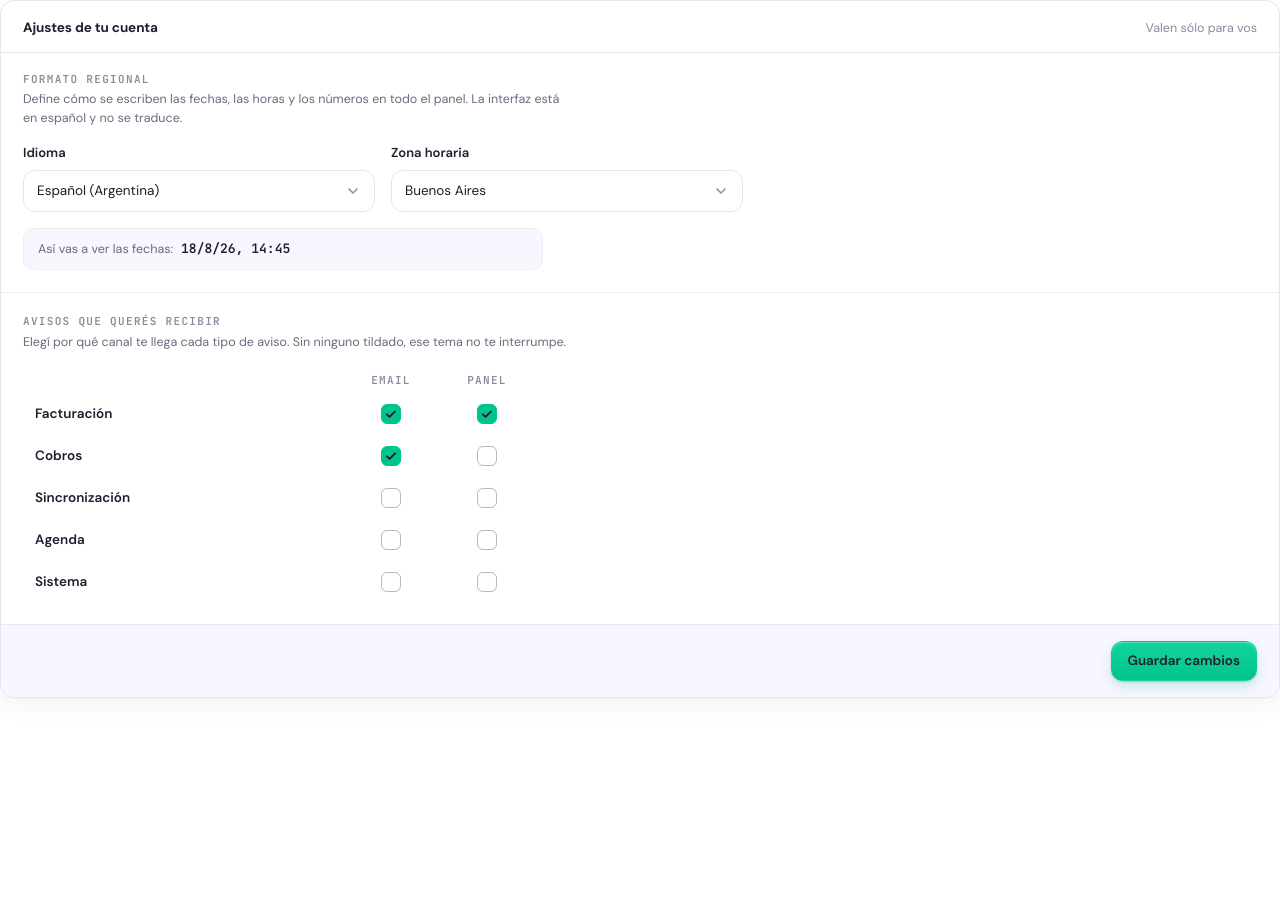
Scenario: FormularioDePreferencias › guarda los cambios y lo confirma
Select "Ushuaia" in the dropdown labelled "Zona horaria" at [567, 191], box [391, 170, 743, 212]
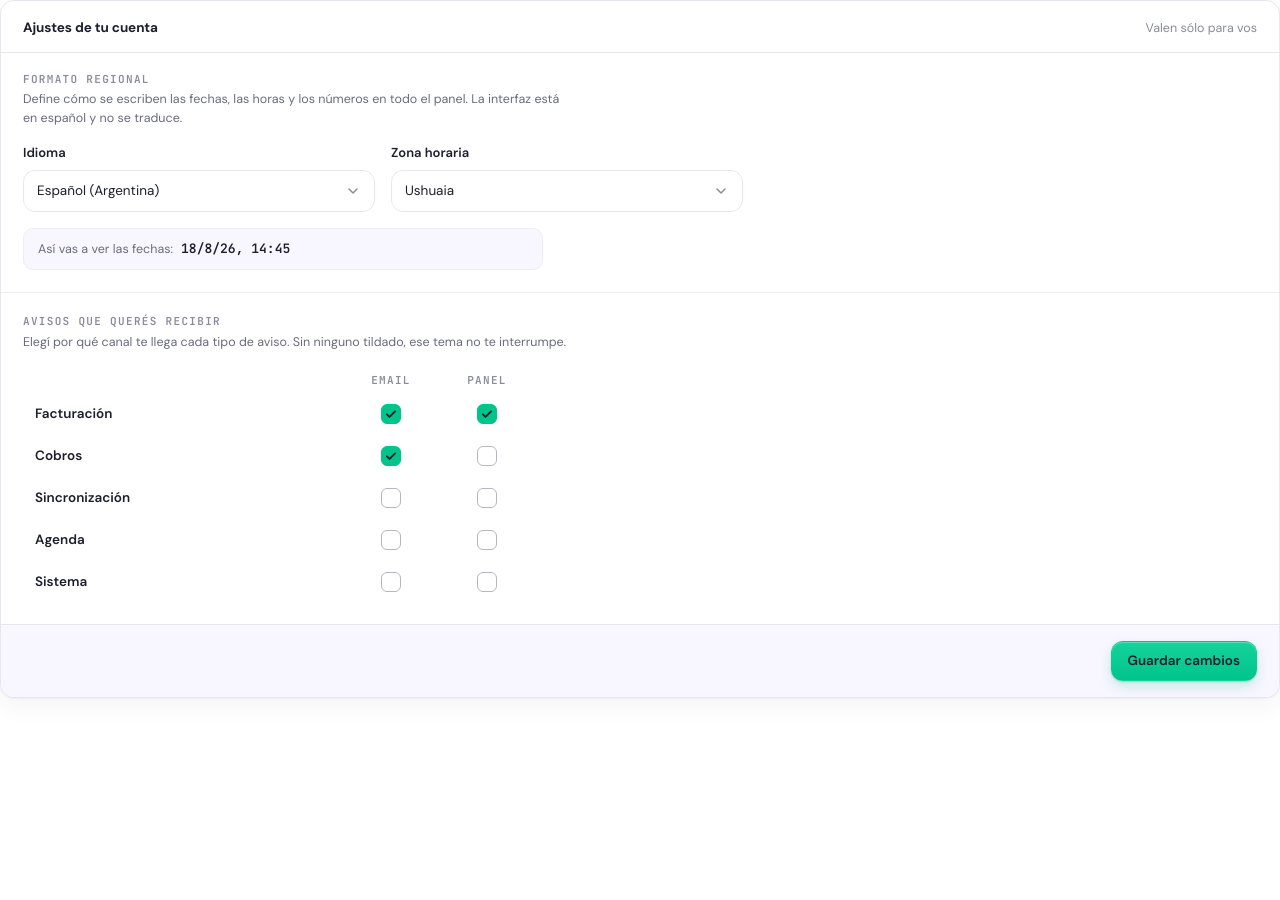
Click the button "Guardar cambios" at [1184, 661], box [1110, 641, 1257, 681]
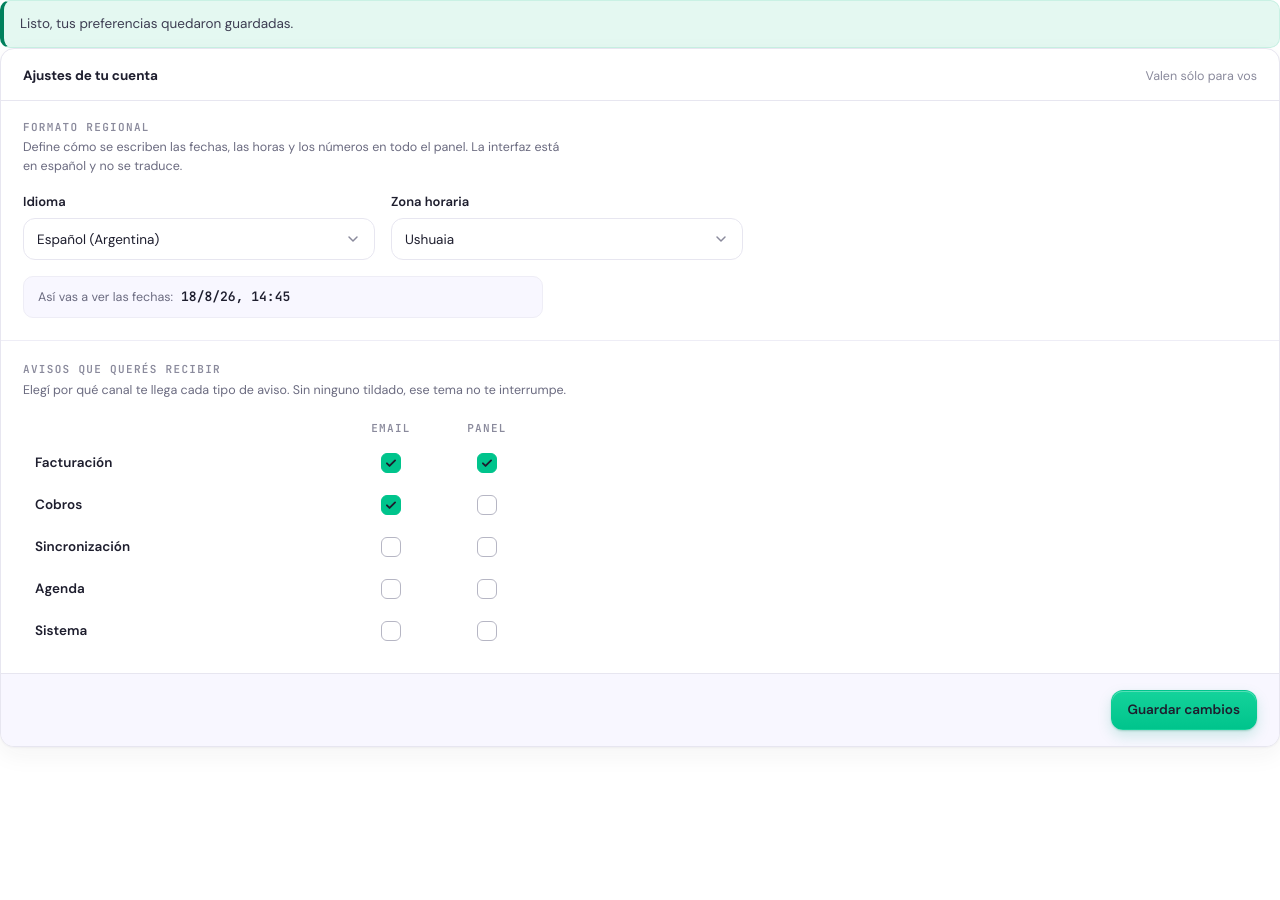
Expected: the text "Listo, tus preferencias quedaron guardadas." is shown, [0, 0, 1279, 48]
